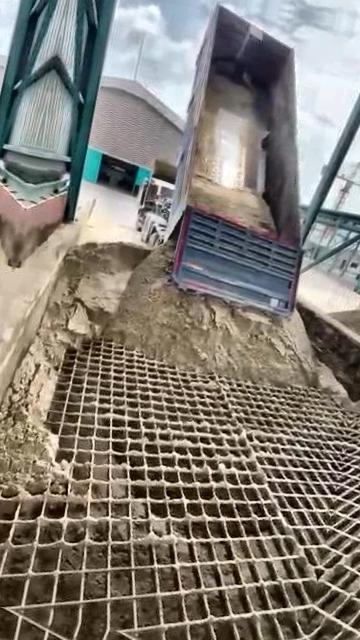sand: (0, 243, 322, 489), (195, 72, 267, 190), (189, 175, 273, 231), (319, 363, 349, 399), (333, 305, 360, 339)
